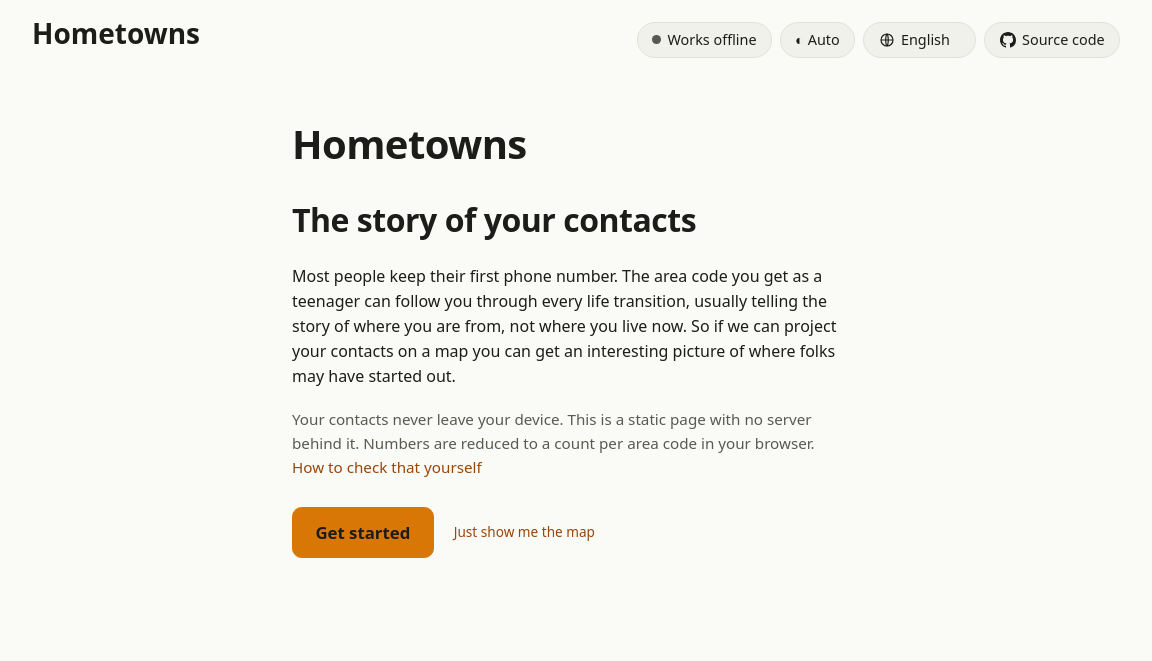
App › borrows the map for an example and hands it back
Click the button "Just show me the map" at x=524, y=533, box 454,522 -> 595,543
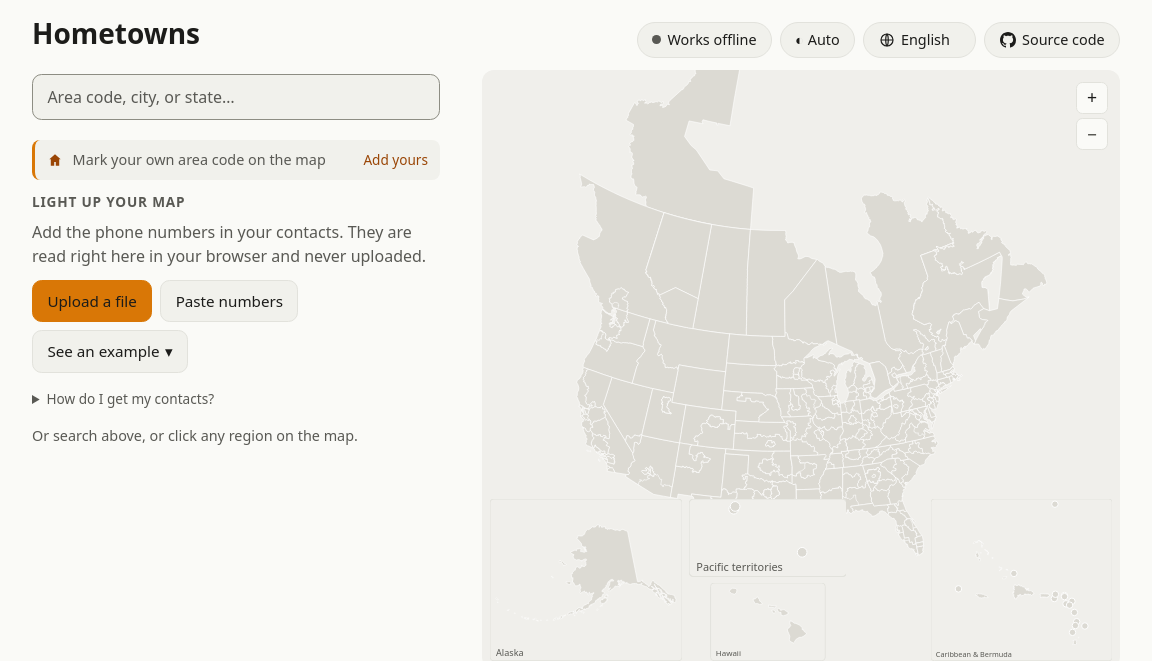
Click the button "See an example ▾" at x=110, y=352, box 32,330 -> 188,373
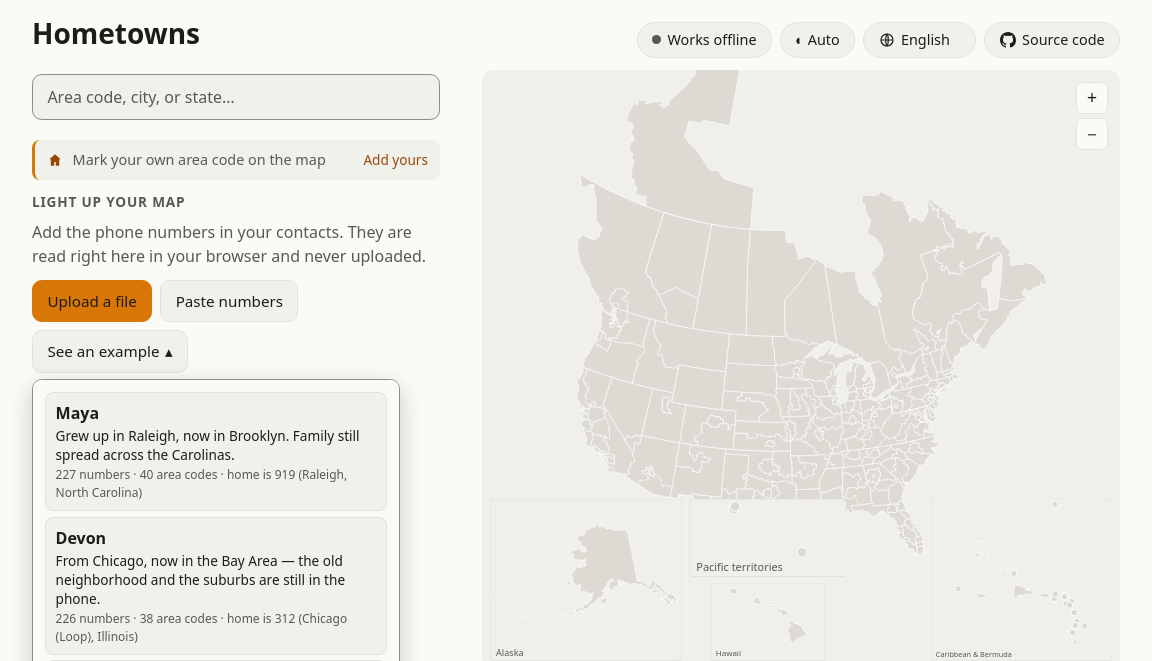
Click the button "Maya Grew up" at x=216, y=451, box 45,392 -> 387,511
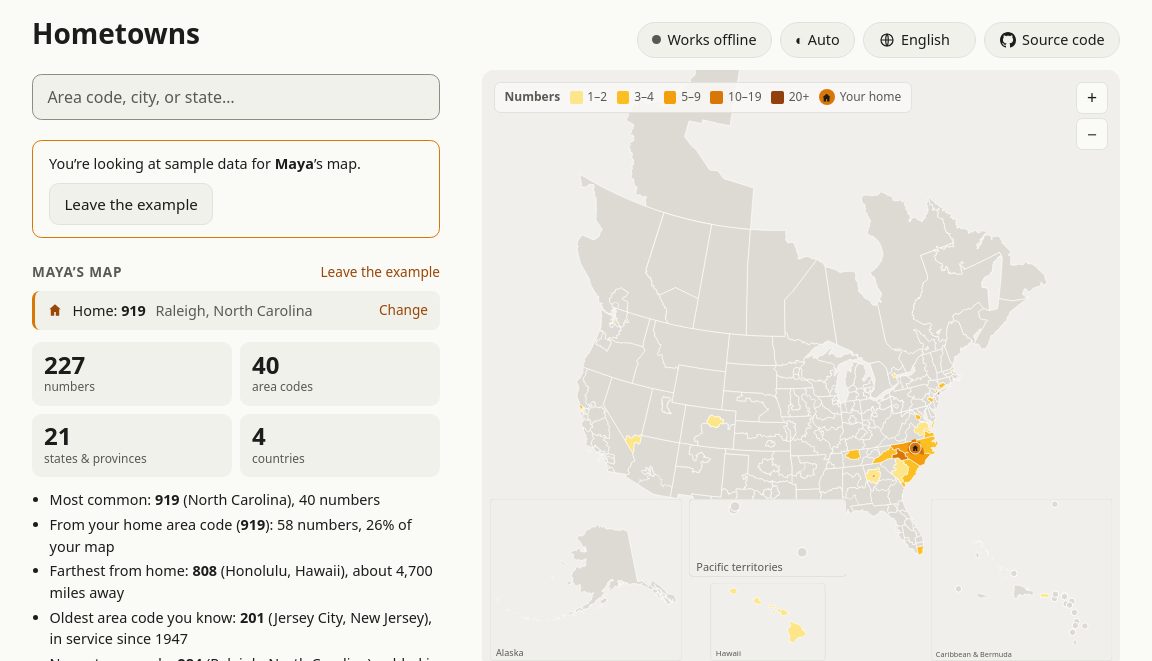
Check: the heading "Maya’s map" is shown, box 32,262 -> 122,283
Check: the list item "Most common: 919 (North Carolina), 40 numbers" is shown, box 50,490 -> 380,509
Click the button "Leave the example" below "You’re looking at sample data for" at x=131, y=204, box 49,183 -> 213,225
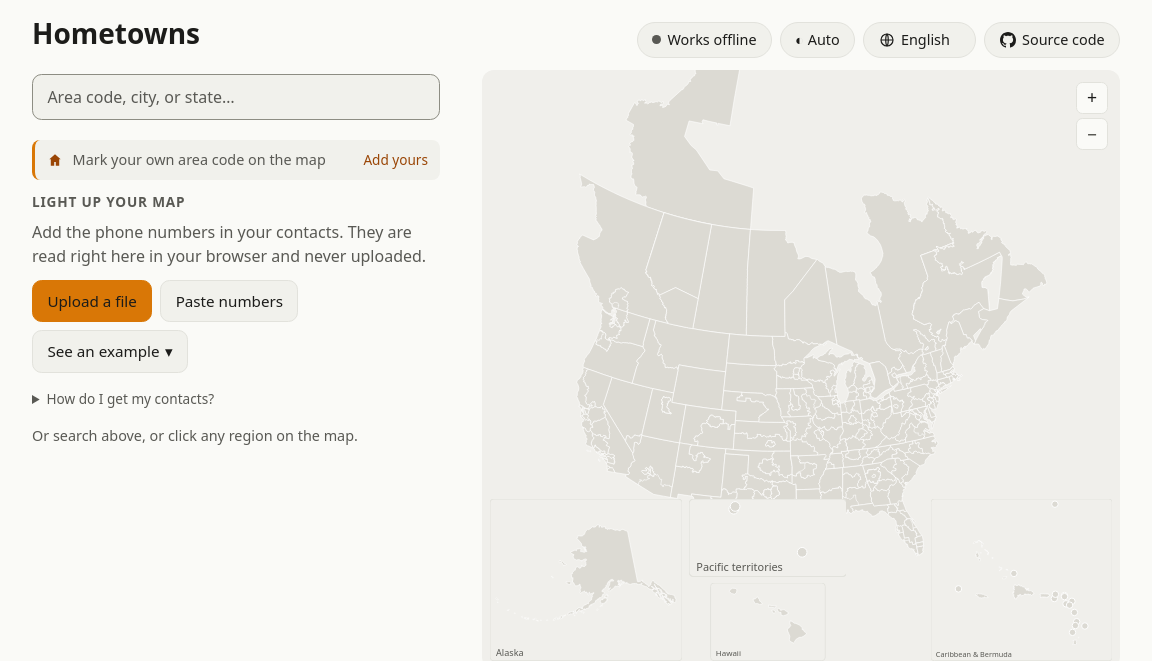
Check: the heading "Maya’s map" is gone
Check: the heading "Light up your map" is shown, box 32,192 -> 185,211
Check: the text "Home:" is gone
